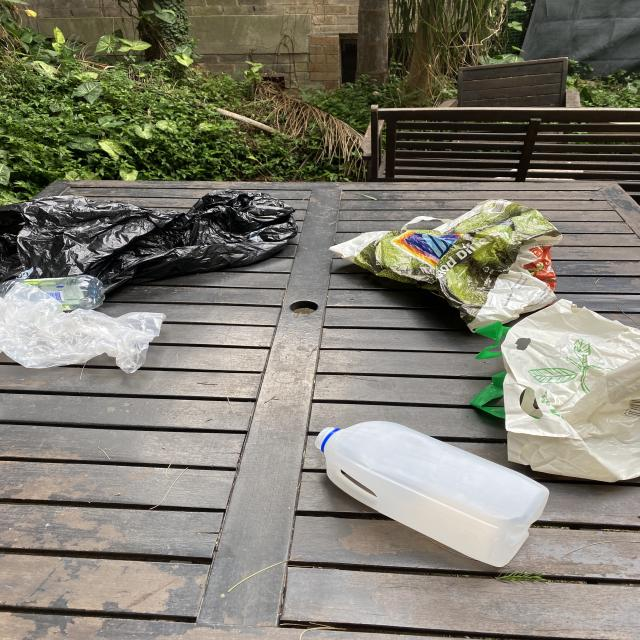bag: (470, 298, 640, 483), (329, 199, 563, 328), (0, 188, 299, 284), (0, 288, 167, 373)
bottle: (316, 421, 551, 568), (0, 275, 105, 311)
